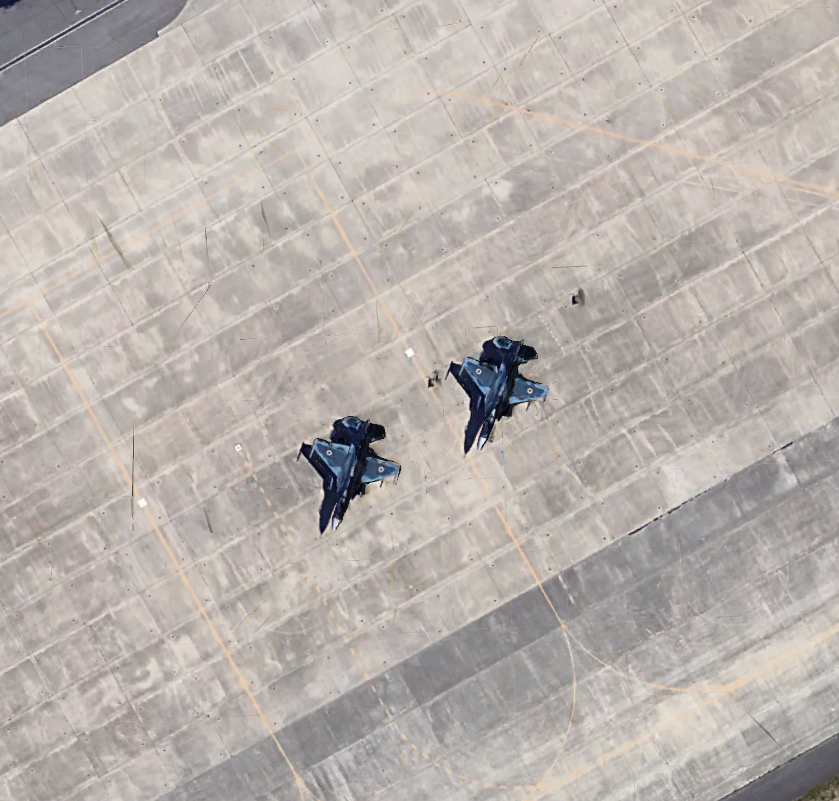A5: (304, 402, 407, 539), (452, 328, 549, 457)
